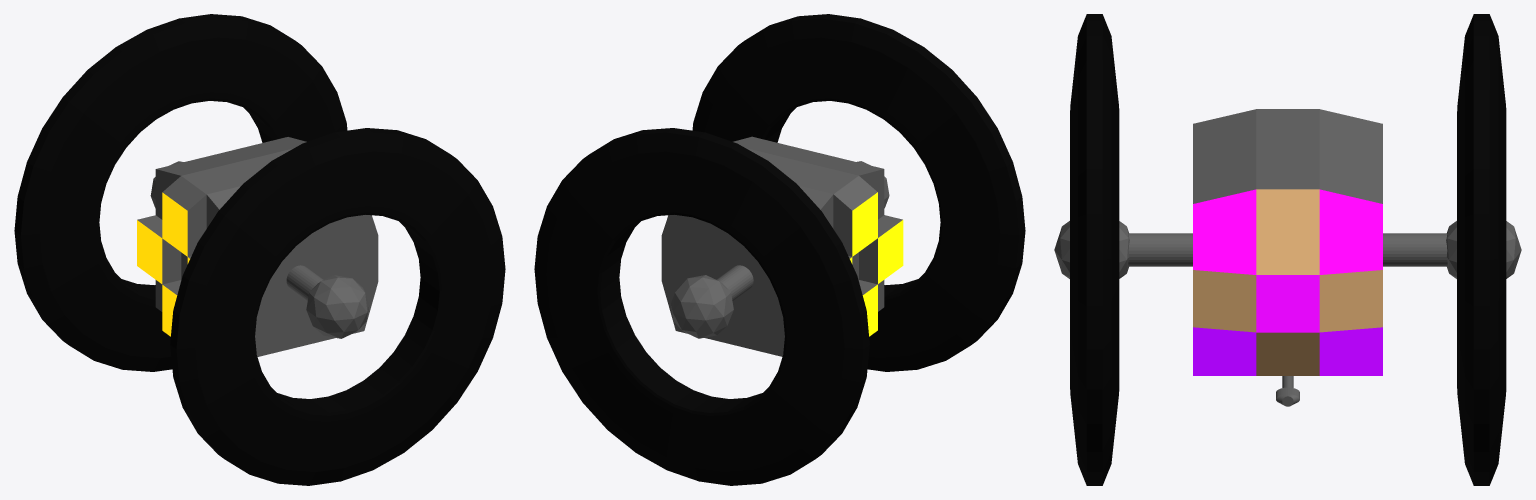
The model's file is drone_wheels.gltf.
The picture shows the model from 3 angles, left to right: view 1: azimuth 30°, elevation 25°; view 2: azimuth 150°, elevation 25°; view 3: azimuth 270°, elevation 25°; orthographic projection. The views are drawn at different scales.
Visible parts, largest first — view 1: Cylinder, Cylinder.002, Cube, Icosphere, Cylinder.001; view 2: Cylinder.002, Cylinder, Cube, Icosphere.001, Cylinder.001; view 3: Cube, Cylinder, Cylinder.002, Cylinder.001, Icosphere, Icosphere.001, Cylinder.003.
Part boxes in pixels (x1,y1,x2,y2): Cylinder: [170, 128, 505, 485]; Cylinder.002: [14, 14, 347, 371]; Cube: [137, 137, 378, 356]; Icosphere: [306, 275, 369, 338]; Cylinder.001: [286, 265, 323, 301]; Cylinder.002: [534, 128, 869, 485]; Cylinder: [692, 14, 1025, 371]; Cube: [661, 136, 903, 356]; Icosphere.001: [670, 275, 733, 338]; Cylinder.001: [716, 265, 753, 301]; Cube: [1193, 109, 1382, 375]; Cylinder: [1070, 14, 1119, 485]; Cylinder.002: [1457, 14, 1506, 485]; Cylinder.001: [1128, 233, 1447, 266]; Icosphere: [1054, 221, 1129, 278]; Icosphere.001: [1446, 221, 1521, 278]; Cylinder.003: [1276, 376, 1299, 406].
Size of the model in its own units: 4.98 by 4.98 by 4.92.
